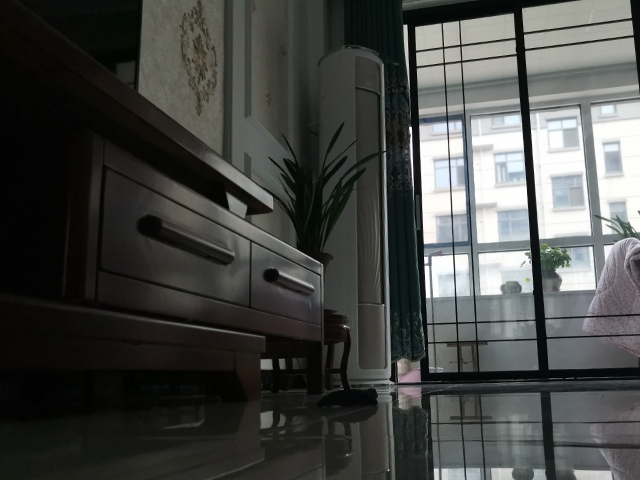cabinet: (1, 1, 329, 402)
curtain: (342, 1, 429, 363)
feces: (315, 386, 380, 409)
stool: (267, 308, 354, 394)
